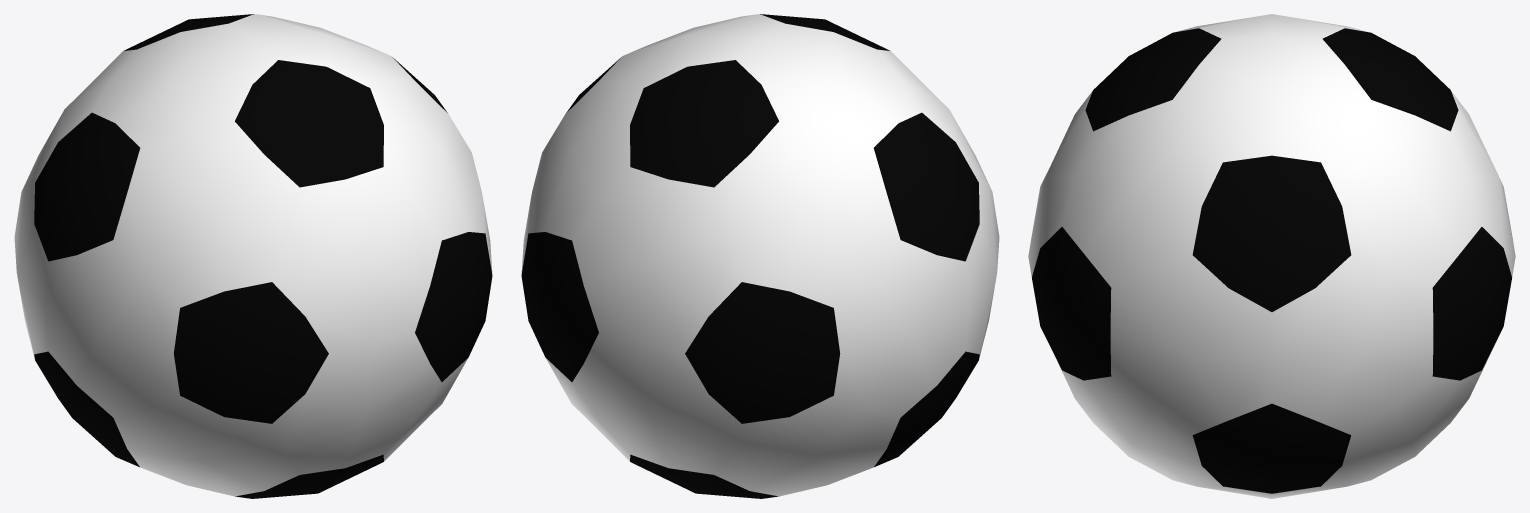
File: Ball.FBX
3 views of the same model, side by side, from view 1: azimuth 30°, elevation 25°; view 2: azimuth 150°, elevation 25°; view 3: azimuth 270°, elevation 25° (orthographic).
Parts seen in each view (by area): view 1: Hedra002; view 2: Hedra002; view 3: Hedra002.
Boxes of the visible parts, left/top/right/bottom form: Hedra002: left=14, top=14, right=492, bottom=498; Hedra002: left=521, top=14, right=999, bottom=498; Hedra002: left=1028, top=14, right=1515, bottom=498.
Size of the model in its own units: 45.86 by 45.86 by 45.86.
